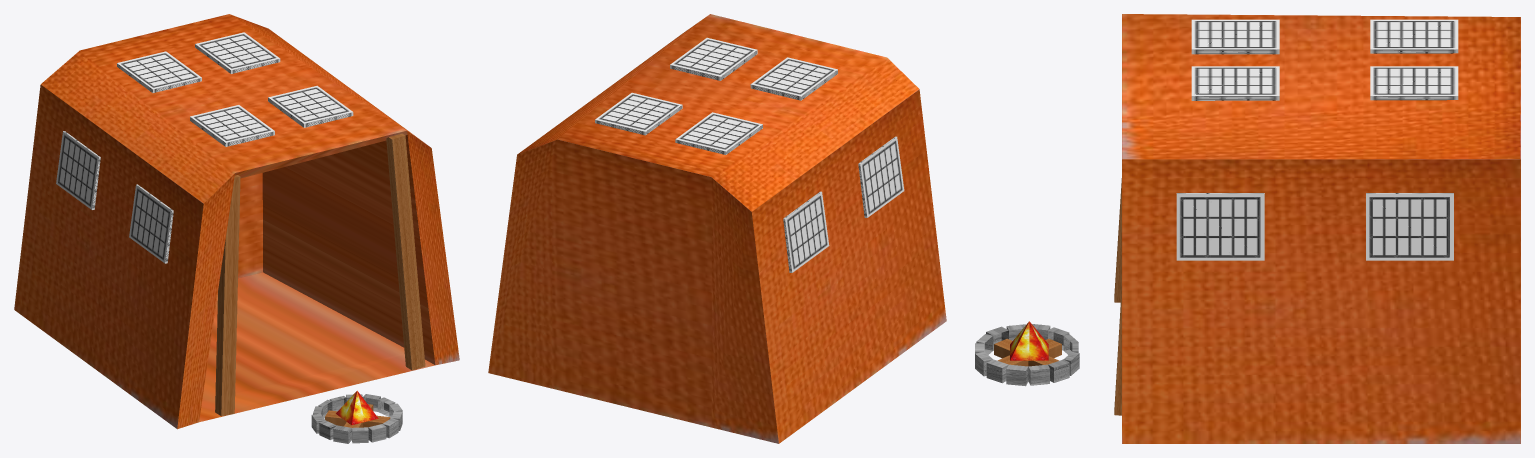
Rendered from cuartelNivel3.fbx.
3 renders of one model, left to right at view 1: azimuth 30°, elevation 25°; view 2: azimuth 150°, elevation 25°; view 3: azimuth 270°, elevation 25°, orthographic. The views are drawn at different scales.
Parts seen in each view (by area): view 1: Box017, Box023, Box022, Cylinder005, Box024, Box025, Box028, Box029, Box030, Box031, Box021; view 2: Box017, Box025, Box024, Box028, Box029, Box030, Box031; view 3: Box017, Box027, Box026, Cylinder005, Box028, Box029, Box031, Box030, Box021, Box023, Box022.
Boxes of the visible parts, box(x1,y1,x2,y2) form: Box017: box(14, 14, 459, 429); Box023: box(386, 133, 425, 370); Box022: box(215, 175, 240, 416); Cylinder005: box(311, 394, 402, 443); Box024: box(129, 184, 173, 263); Box025: box(56, 131, 100, 209); Box028: box(190, 105, 274, 146); Box029: box(268, 85, 353, 127); Box030: box(195, 32, 280, 73); Box031: box(117, 51, 201, 92); Box021: box(336, 390, 378, 425); Box017: box(488, 14, 946, 443); Box025: box(783, 191, 829, 272); Box024: box(858, 136, 904, 217); Box028: box(750, 57, 837, 100); Box029: box(670, 37, 757, 80); Box030: box(595, 92, 682, 135); Box031: box(675, 112, 762, 154); Box017: box(1122, 14, 1520, 443); Box027: box(1176, 193, 1264, 260); Box026: box(1366, 193, 1453, 260); Cylinder005: box(975, 324, 1079, 386); Box028: box(1191, 19, 1279, 54); Box029: box(1191, 66, 1279, 100); Box031: box(1370, 19, 1458, 53); Box030: box(1370, 66, 1458, 100); Box021: box(1010, 321, 1048, 360); Box023: box(1114, 285, 1121, 415); Box022: box(1114, 178, 1121, 302).
Bounding box in the file's own units: 1 × 0.8446 × 1.37.
Materials: 5 (5 with a texture image).
